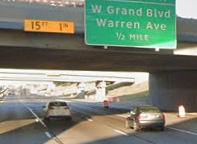1: (57, 22, 63, 31), (30, 20, 34, 30)
5: (34, 20, 41, 31)
overheadsign: (23, 19, 75, 34)
